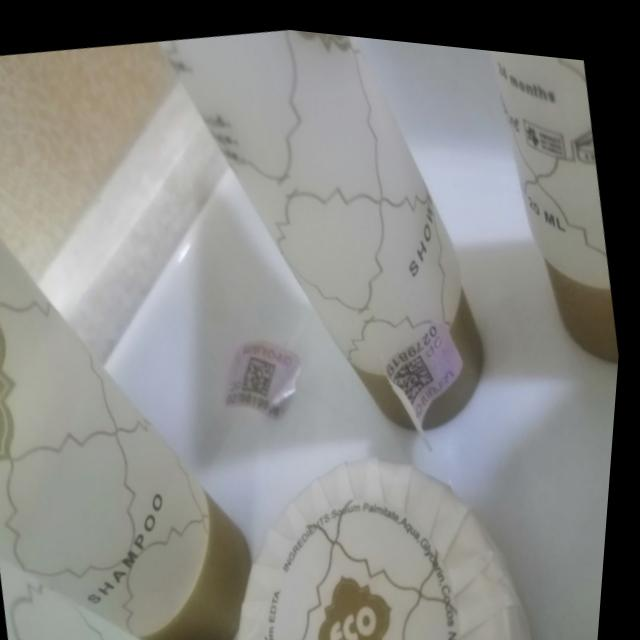datamatrix: (389, 338, 447, 402), (241, 345, 289, 397)
